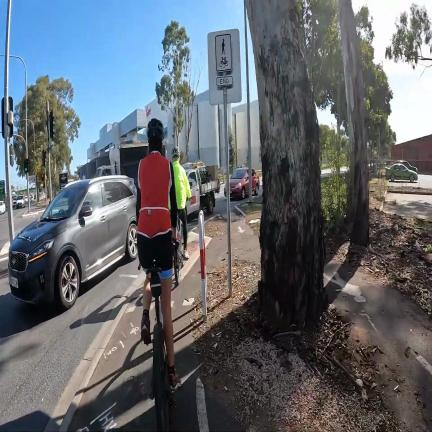Bike_Lane: (66, 290, 156, 432), (171, 289, 200, 432)
Bike_Sign: (208, 29, 241, 105)
